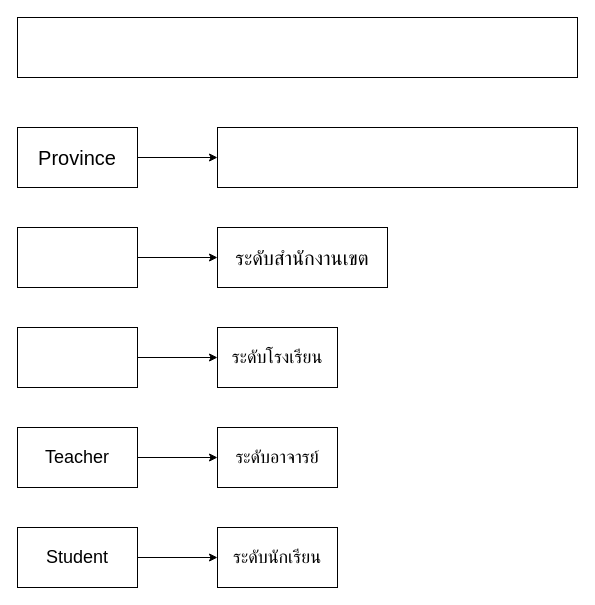
Image size: 595x605. Some labels were removed from this diagram. Each missing label, with the centre of its shape:
District: (77,257)
Role: (297,47)
School: (77,357)
ระดับกรุงเทพมหานคร และสำนักการศึกษา: (397,157)
